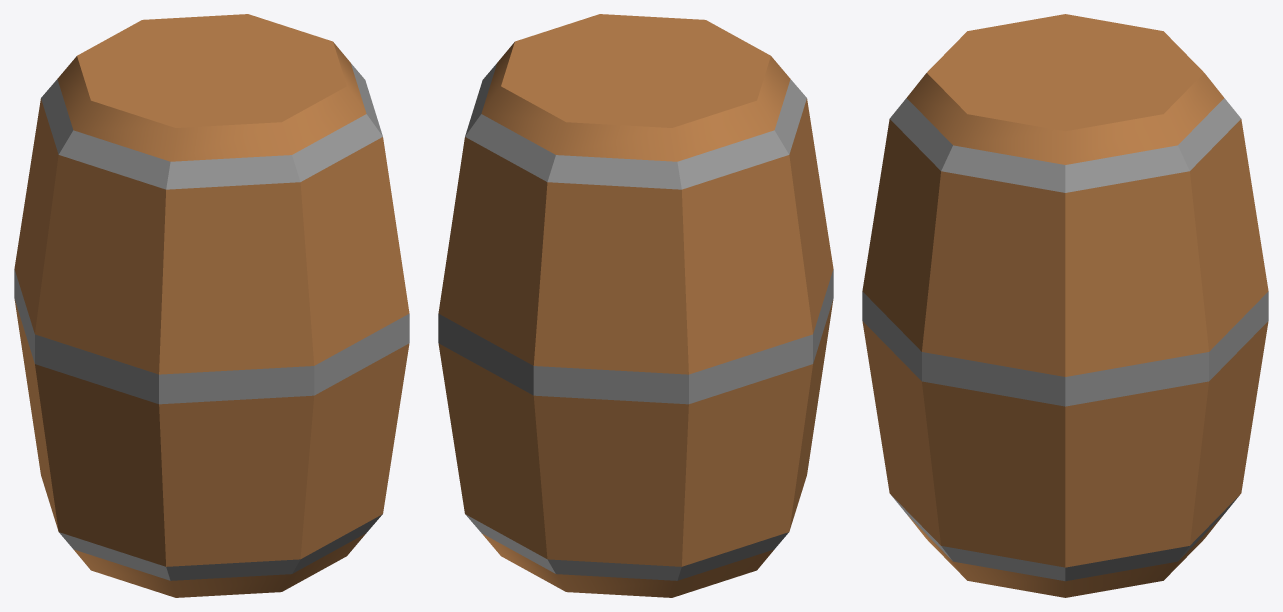
The model's file is EL_House_Drum.FBX.
The picture shows the model from 3 angles, left to right: view 1: azimuth 30°, elevation 25°; view 2: azimuth 150°, elevation 25°; view 3: azimuth 270°, elevation 25°; orthographic projection.
Visible parts, largest first — view 1: Cylinder001; view 2: Cylinder001; view 3: Cylinder001.
Part boxes in pixels (left/top/right/bottom): Cylinder001: left=14, top=14, right=409, bottom=597; Cylinder001: left=438, top=14, right=833, bottom=597; Cylinder001: left=862, top=14, right=1268, bottom=597.
Size of the model in its own units: 0.4935 by 0.6255 by 0.4935.
